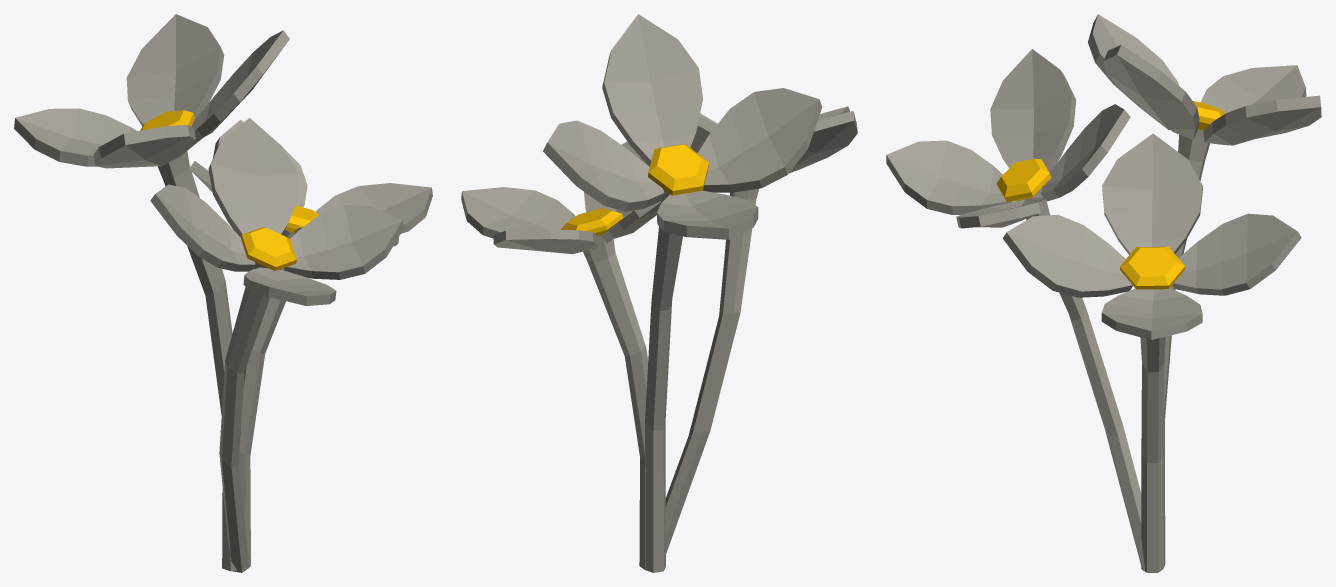
The model's file is Grass2.fbx.
3 views of the same model, side by side, from view 1: azimuth 30°, elevation 25°; view 2: azimuth 150°, elevation 25°; view 3: azimuth 270°, elevation 25° (orthographic).
Visible parts, largest first — view 1: Circle.002, Circle.001, Circle; view 2: Circle.001, Circle, Circle.002; view 3: Circle, Circle.002, Circle.001.
Part boxes in pixels (x1=…): Circle.002: x1=150, y1=118, x2=403, y2=572; Circle.001: x1=14, y1=14, x2=289, y2=571; Circle: x1=189, y1=120, x2=432, y2=570; Circle.001: x1=543, y1=14, x2=822, y2=572; Circle: x1=461, y1=141, x2=660, y2=570; Circle.002: x1=665, y1=106, x2=857, y2=553; Circle: x1=1003, y1=133, x2=1301, y2=572; Circle.002: x1=886, y1=49, x2=1144, y2=571; Circle.001: x1=1088, y1=14, x2=1321, y2=567.
Size of the model in its own units: 214 by 319 by 233.
